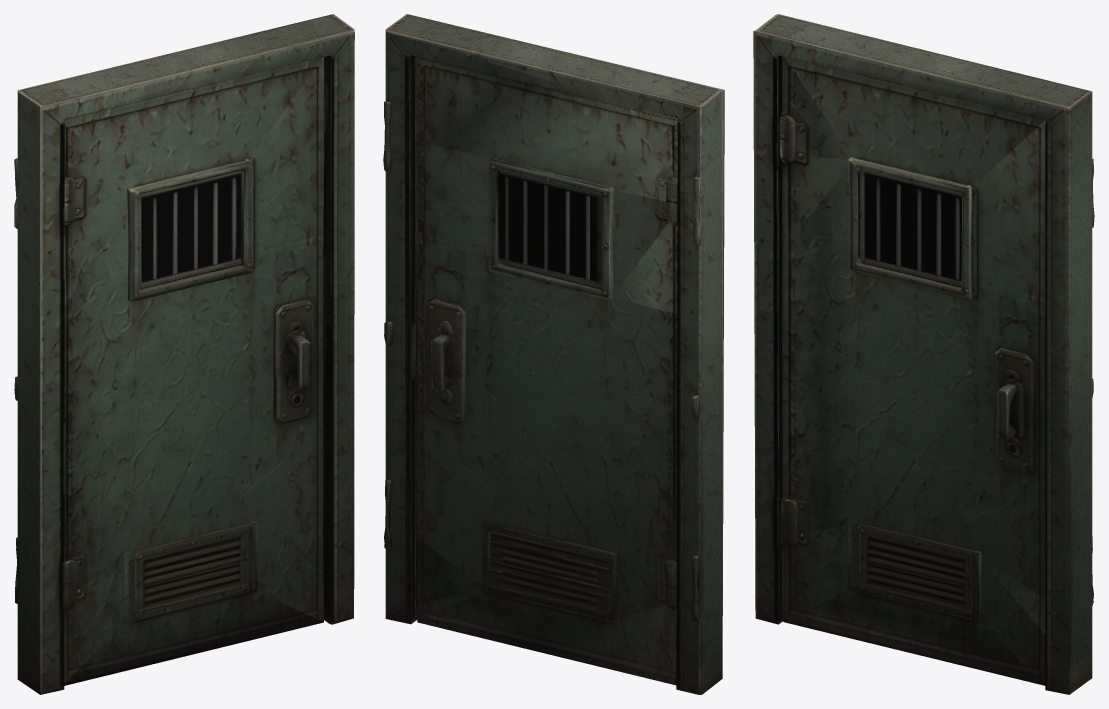
Rendered from door3.fbx.
3 views of the same model, side by side, from view 1: azimuth 30°, elevation 25°; view 2: azimuth 150°, elevation 25°; view 3: azimuth 330°, elevation 25° (orthographic).
Parts seen in each view (by area): view 1: mesh_node; view 2: mesh_node; view 3: mesh_node.
Part boxes in pixels (x1,y1,x2,y2): mesh_node: [14, 14, 354, 694]; mesh_node: [383, 14, 724, 694]; mesh_node: [753, 14, 1094, 694].
Bounding box in the file's own units: 56.25 × 100 × 12.16.
Materials: 1 (1 with a texture image).
